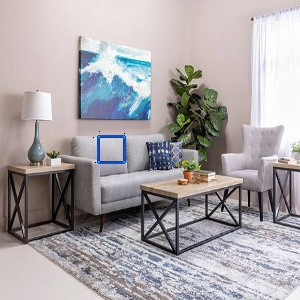square: (95, 132, 129, 167)
